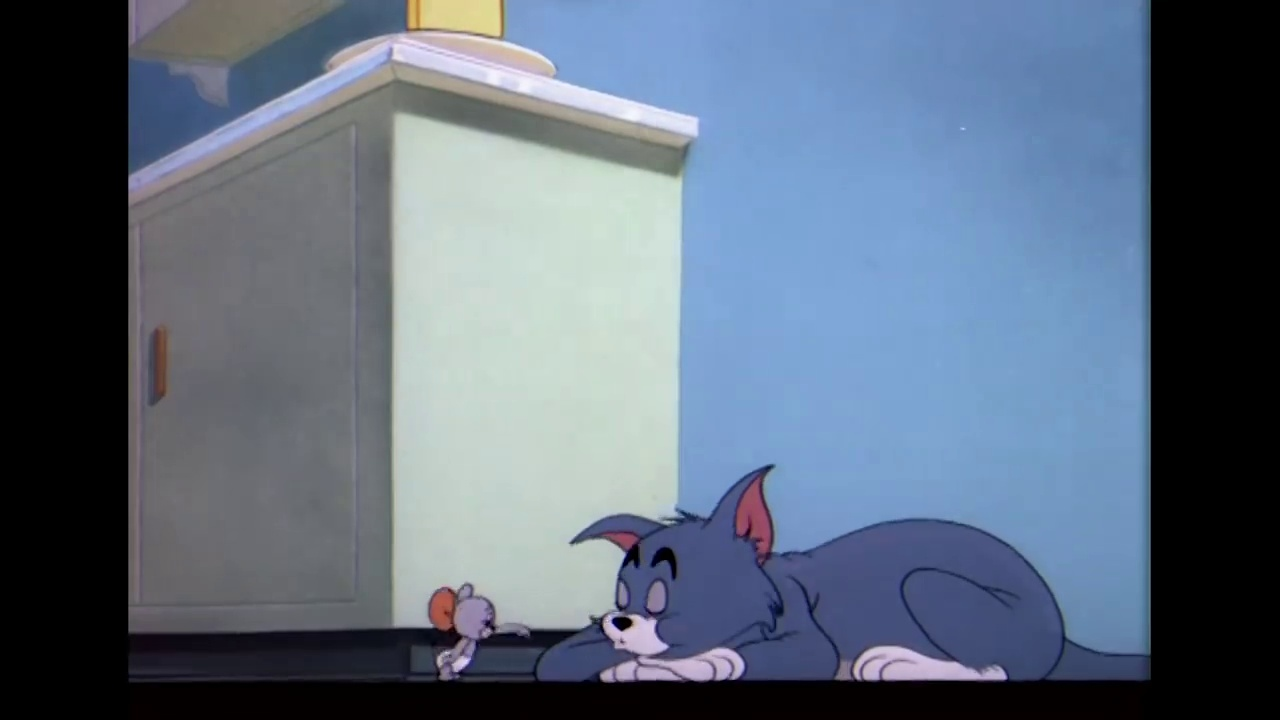tom: (562, 461, 792, 664)
